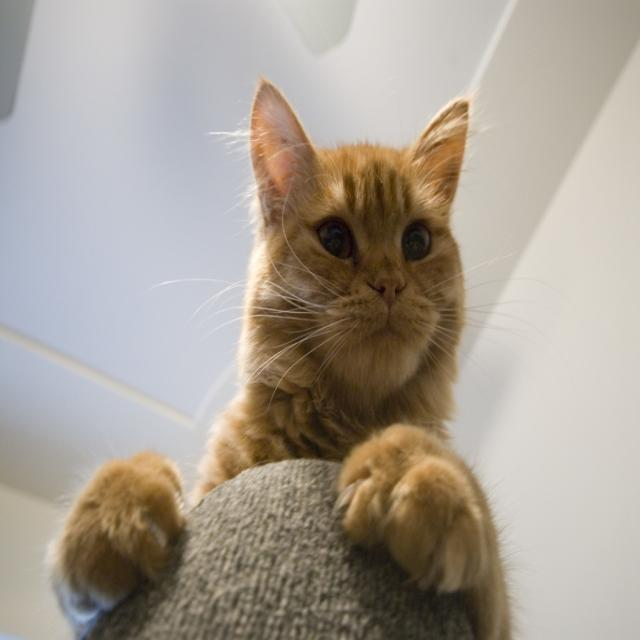Cat: (39, 71, 572, 639)
